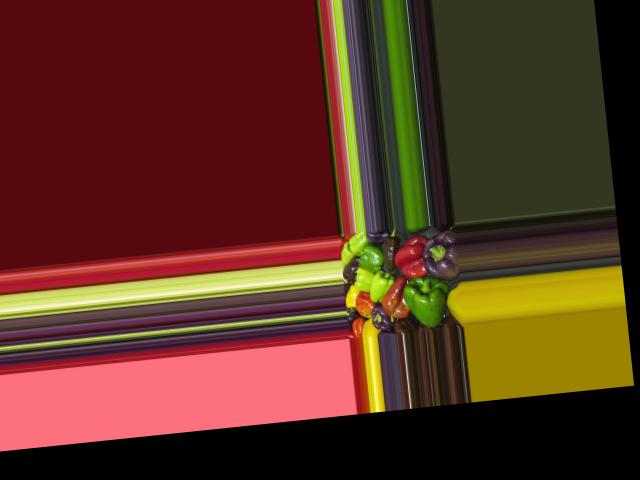bell_pepper: (366, 303, 393, 334)
